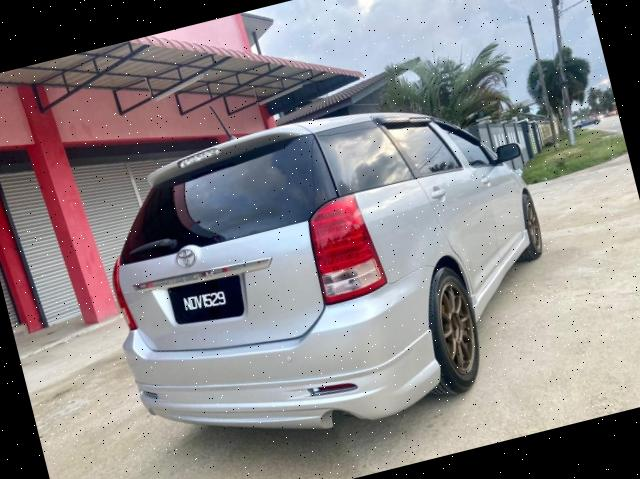License_Plate: (165, 272, 244, 328)
car: (77, 65, 588, 479)
